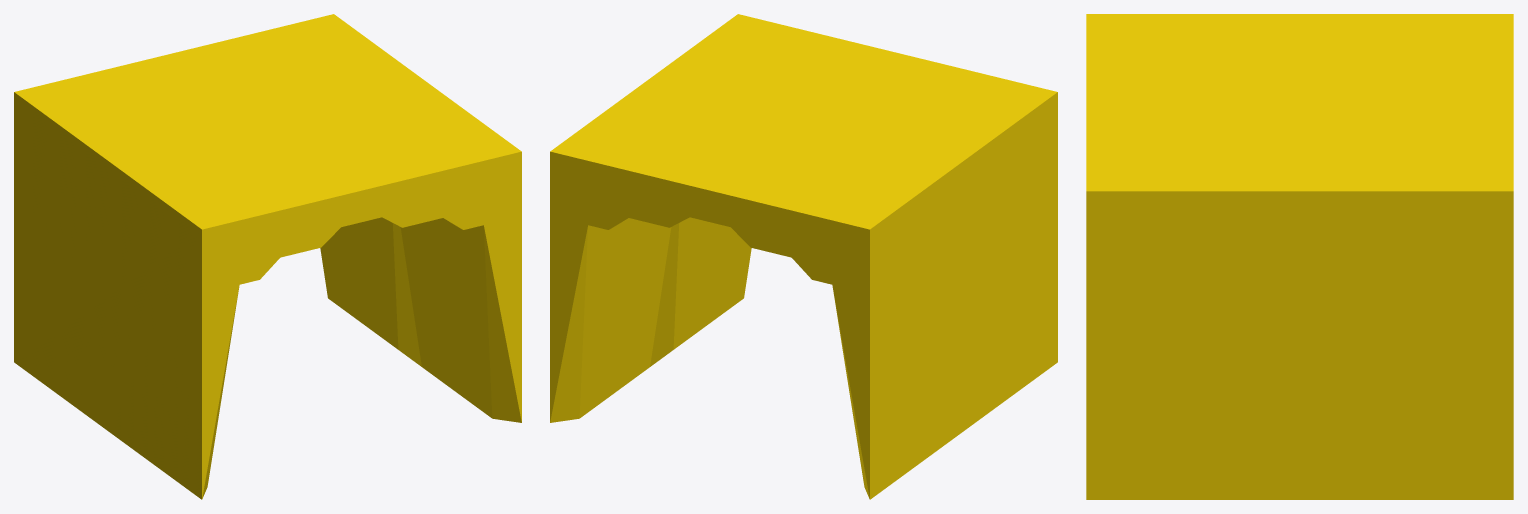
File: crocArch.gltf
The picture shows the model from 3 angles, left to right: view 1: azimuth 30°, elevation 25°; view 2: azimuth 150°, elevation 25°; view 3: azimuth 270°, elevation 25°; orthographic projection. The views are drawn at different scales.
Parts seen in each view (by area): view 1: Cube; view 2: Cube; view 3: Cube.
Boxes of the visible parts, x1,y1,x2,y2 form: Cube: [14, 14, 521, 499]; Cube: [550, 14, 1057, 499]; Cube: [1086, 14, 1513, 499].
Bounding box in the file's own units: 9.94 × 8.06 × 10.12.
